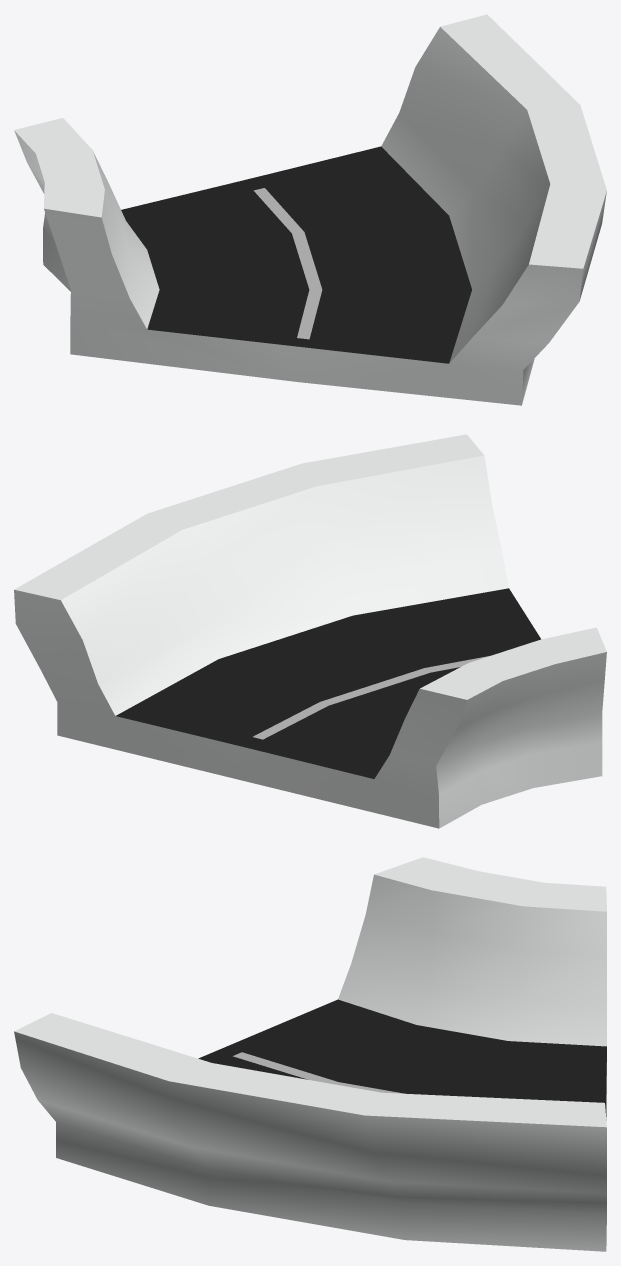
The model's file is duong cong.fbx.
3 renders of one model, top to bottom at view 1: azimuth 30°, elevation 25°; view 2: azimuth 150°, elevation 25°; view 3: azimuth 270°, elevation 25°, orthographic. The views are drawn at different scales.
Parts seen in each view (by area): view 1: duogn_cong; view 2: duogn_cong; view 3: duogn_cong.
Boxes of the visible parts, x1,y1,x2,y2 form: duogn_cong: [14, 14, 606, 405]; duogn_cong: [14, 434, 606, 828]; duogn_cong: [14, 857, 606, 1251].
Size of the model in its own units: 23.57 by 6 by 21.87.
Materials: 1 (1 with a texture image).
